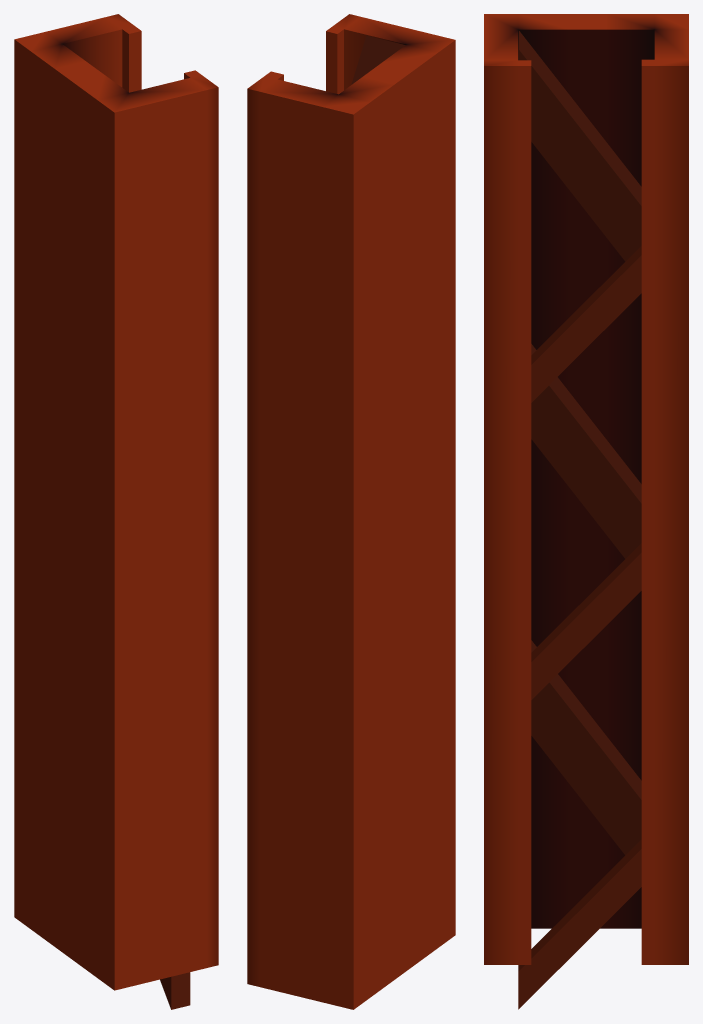
Rendered from Girder Border.fbx.
The picture shows the model from 3 angles, left to right: view 1: azimuth 30°, elevation 25°; view 2: azimuth 150°, elevation 25°; view 3: azimuth 270°, elevation 25°; orthographic projection. The views are drawn at different scales.
Visible parts, largest first — view 1: GirderBorderFrame; view 2: GirderBorderFrame; view 3: GirderBorderFrame.
Part boxes in pixels (x1,y1,x2,y2): GirderBorderFrame: (14,14,218,1009); GirderBorderFrame: (247,14,455,1009); GirderBorderFrame: (484,14,688,1009).
Bounding box in the file's own units: 3.33 × 28.34 × 5.54.
